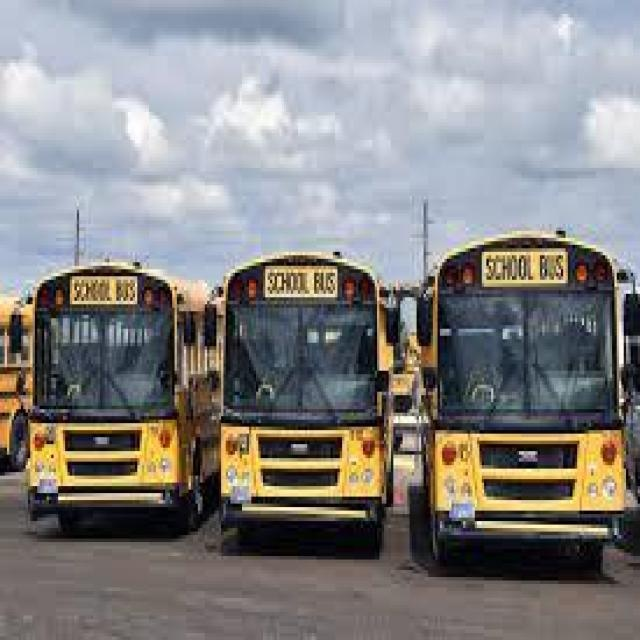Bus: (409, 224, 640, 577), (202, 244, 402, 546), (12, 258, 216, 538), (0, 276, 40, 500)
